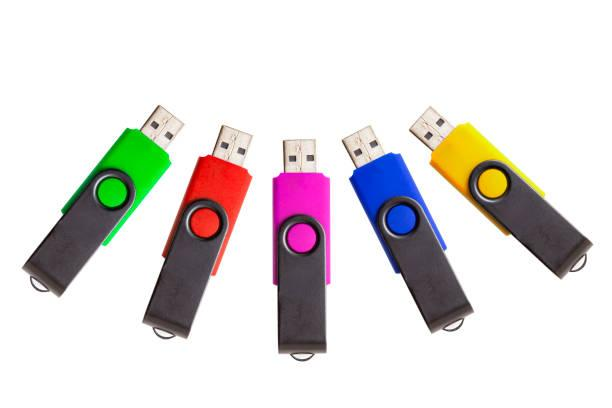USB Flash Drive: (409, 106, 594, 281), (23, 106, 185, 298), (342, 125, 474, 334), (142, 125, 254, 340), (272, 138, 332, 362)
